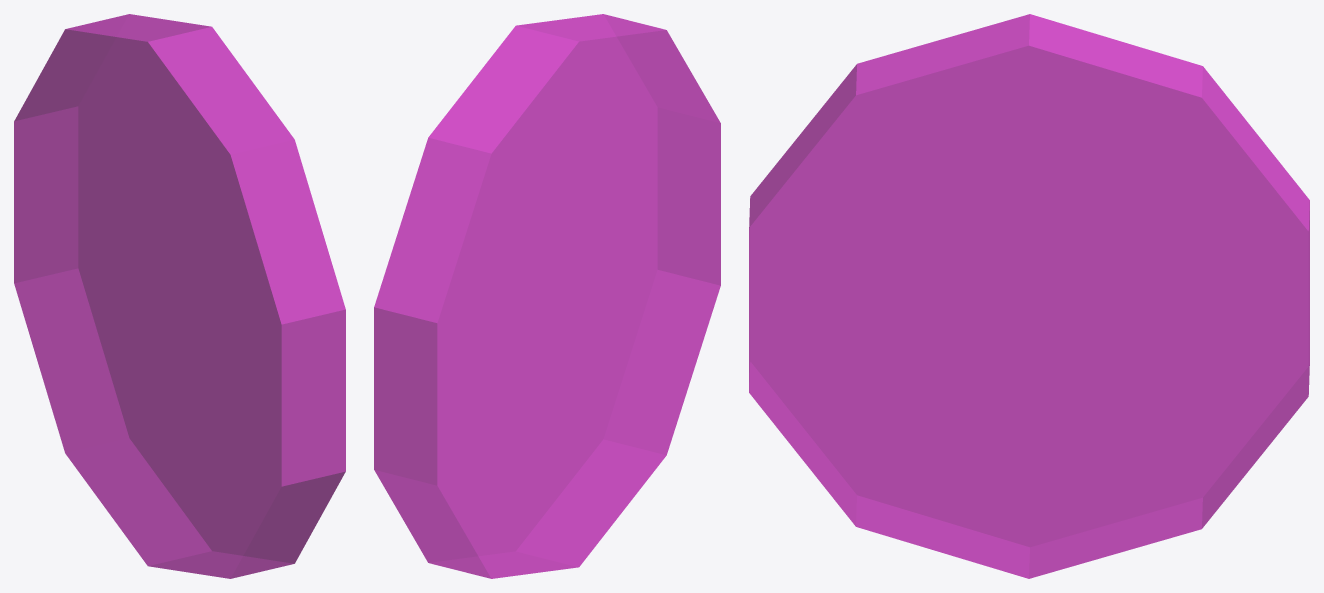
File: SM_Veh_Cart_01_Wheel_Right_01_Collision.fbx
3 views of the same model, side by side, from view 1: azimuth 30°, elevation 25°; view 2: azimuth 150°, elevation 25°; view 3: azimuth 270°, elevation 25° (orthographic).
Visible parts, largest first — view 1: SM_Veh_Cart_01_Wheel_Right_01_Collision; view 2: SM_Veh_Cart_01_Wheel_Right_01_Collision; view 3: SM_Veh_Cart_01_Wheel_Right_01_Collision.
Part boxes in pixels (bbox=[...]): SM_Veh_Cart_01_Wheel_Right_01_Collision: bbox=[14, 14, 345, 578]; SM_Veh_Cart_01_Wheel_Right_01_Collision: bbox=[374, 14, 720, 578]; SM_Veh_Cart_01_Wheel_Right_01_Collision: bbox=[749, 14, 1309, 578].
Bounding box in the file's own units: 14.55 × 102 × 97.37.
